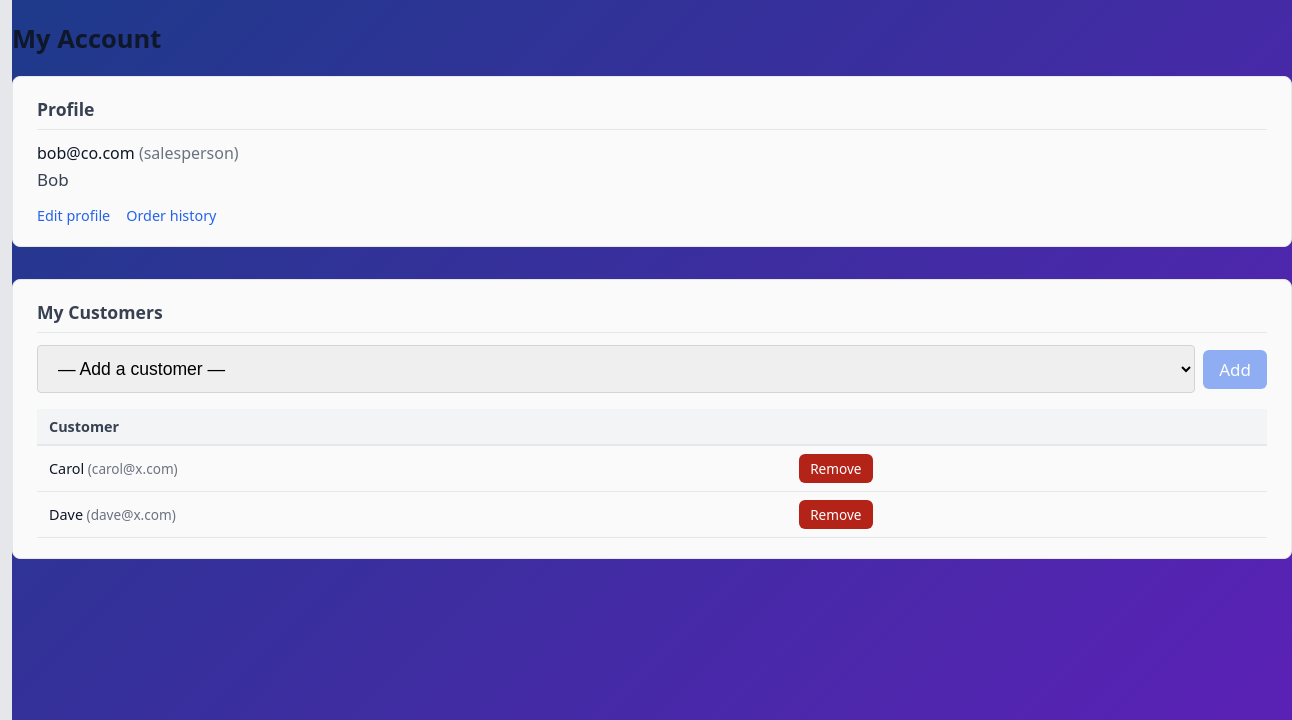
AccountView › salesperson role › shows error when removing fails
What coordinates should you click on to do the following:
click the button with class "remove-btn" in the row of "(carol@x.com)"
I would click on:
 (836, 469)
Its box is left=799, top=454, right=873, bottom=483.
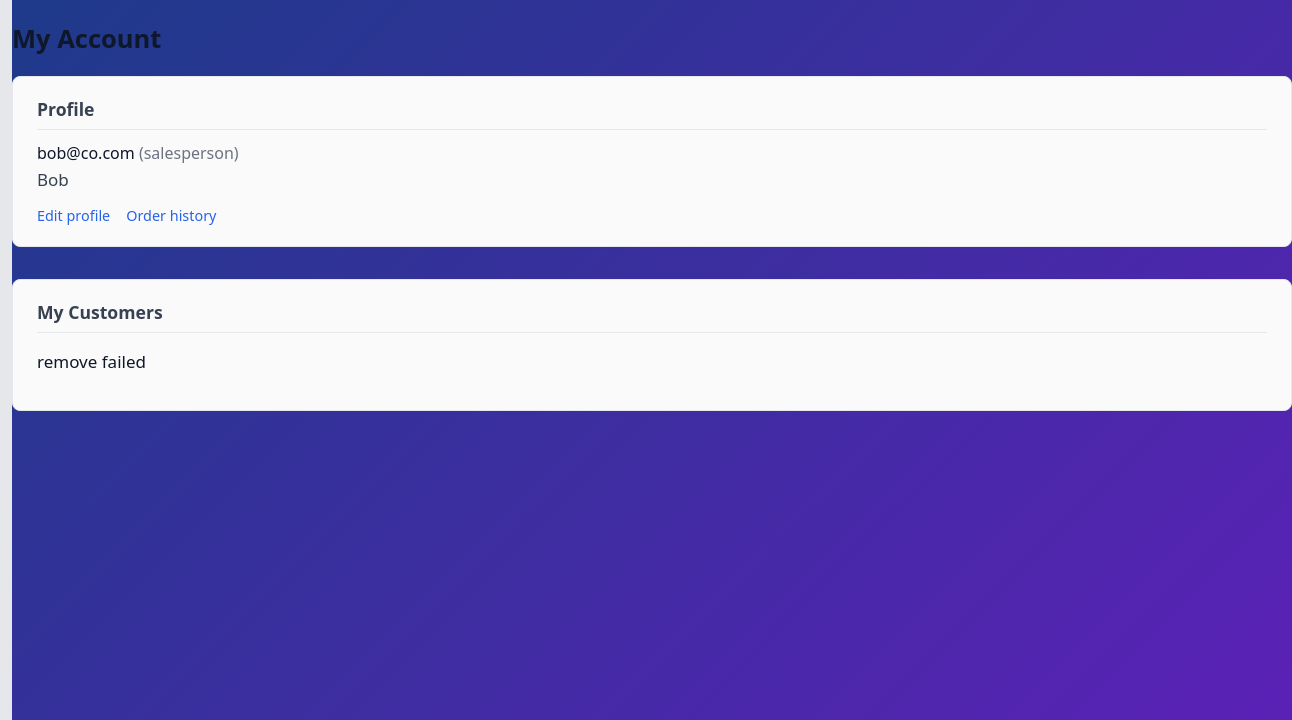
Now the message "remove failed" is shown, box left=37, top=350, right=146, bottom=373
